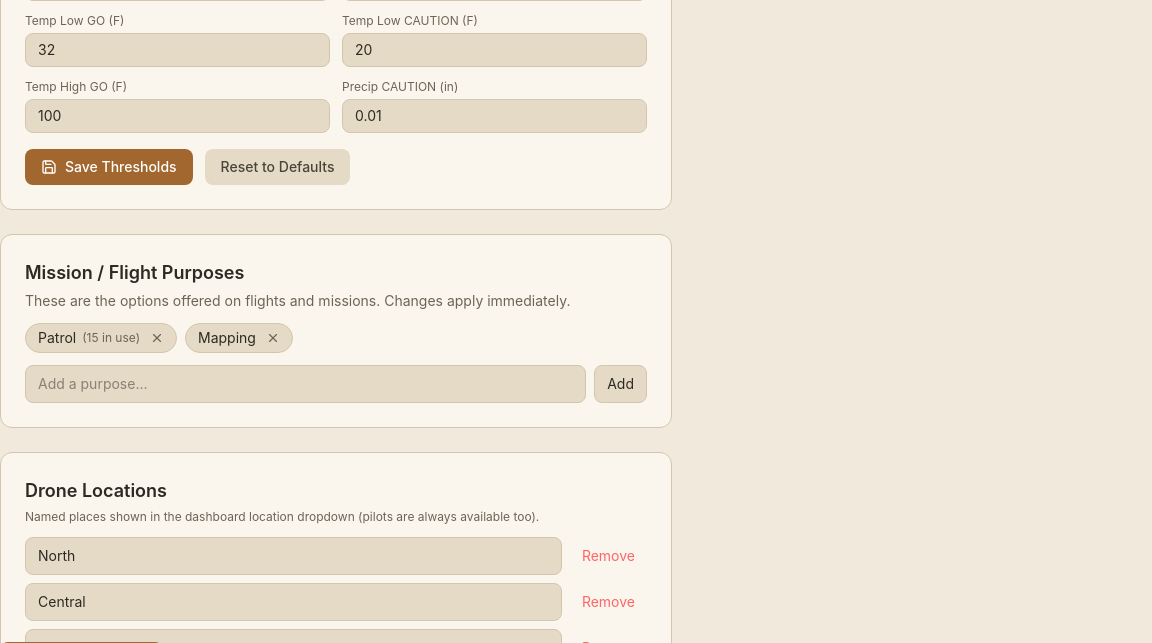
Test: SettingsPage › says nothing will change when a purpose is unused
(page scrolled)
Check: the text "Mapping" is shown, box [198, 328, 256, 348]
Click the button named "Delete purpose Mapping".
click(273, 338)  # box [266, 331, 280, 345]
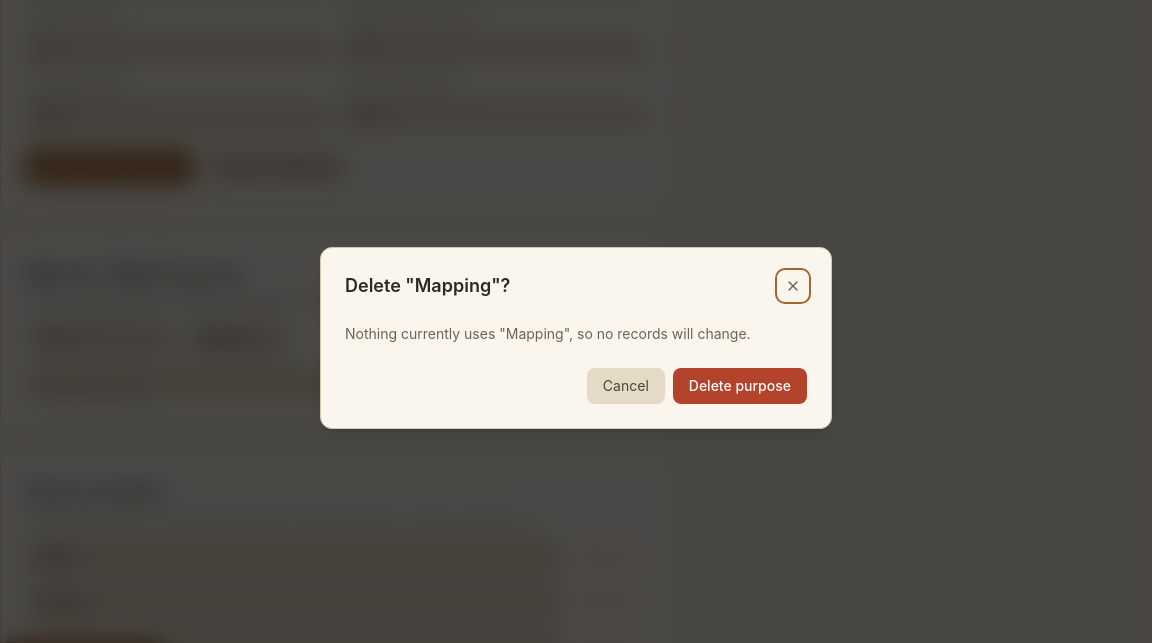
Check: the text "Nothing currently uses \"Mapping\", so no records will change." is shown, box [345, 324, 807, 344]
